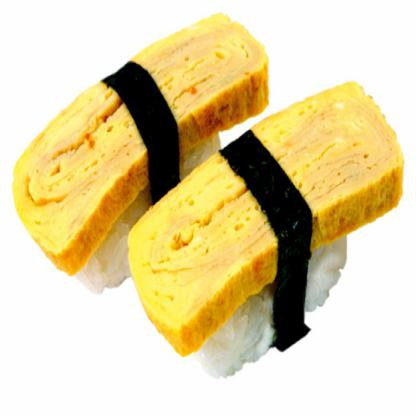tamago: (120, 69, 414, 402)
